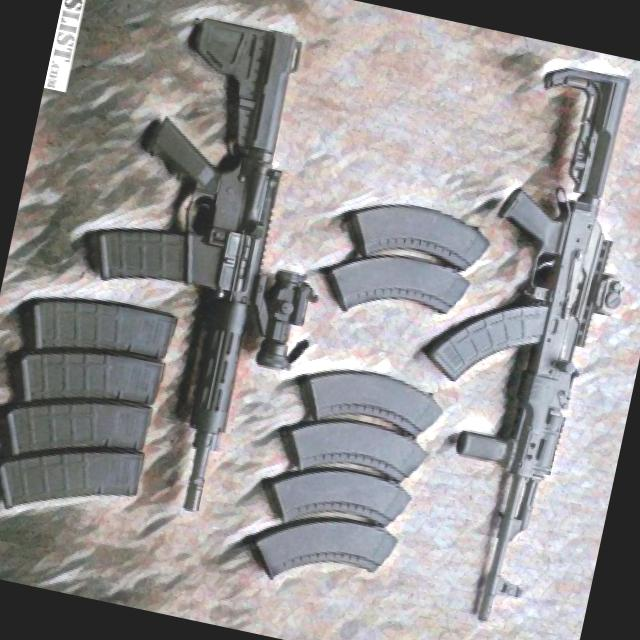long weapon: (41, 0, 359, 527), (372, 41, 639, 639)
